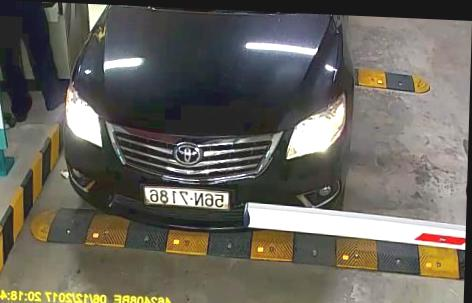License_Plate: (140, 183, 232, 215)
